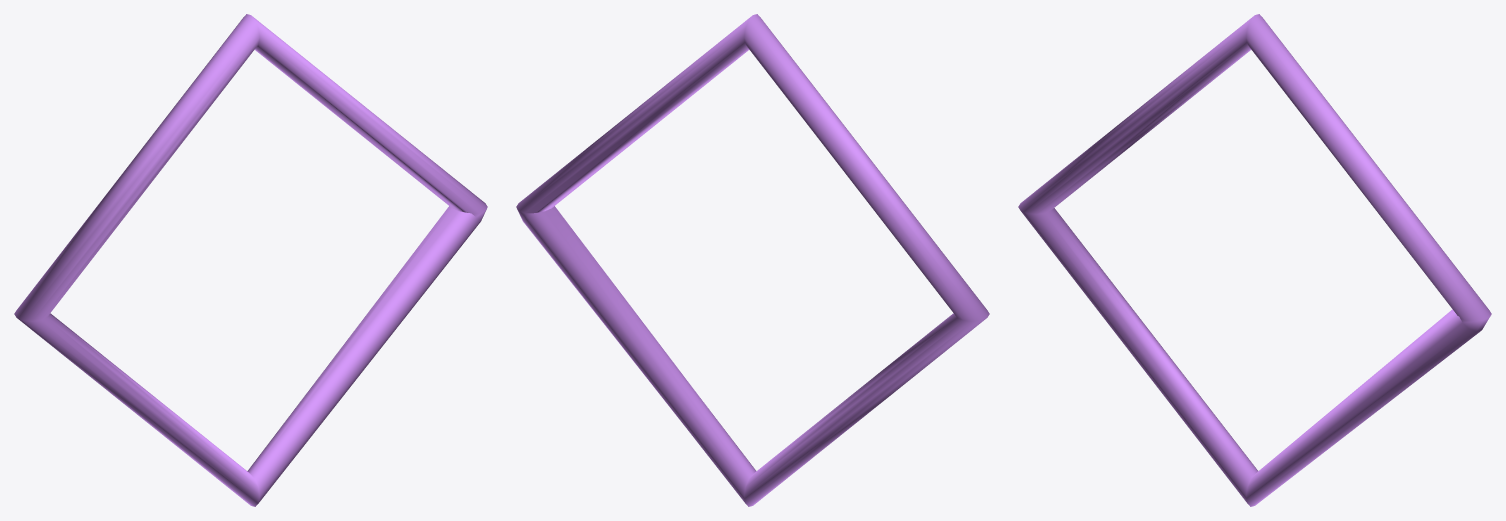
The model's file is diamond-DiTsUrW4.glb.
3 views of the same model, side by side, from view 1: azimuth 30°, elevation 25°; view 2: azimuth 150°, elevation 25°; view 3: azimuth 330°, elevation 25° (orthographic).
Parts seen in each view (by area): view 1: R3D_diamond_Body_0; view 2: R3D_diamond_Body_0; view 3: R3D_diamond_Body_0.
Part boxes in pixels (<box>): R3D_diamond_Body_0: <box>14,14,487,506</box>; R3D_diamond_Body_0: <box>516,14,989,506</box>; R3D_diamond_Body_0: <box>1018,14,1491,506</box>.
Size of the model in its own units: 2.78 by 2.78 by 0.18.
